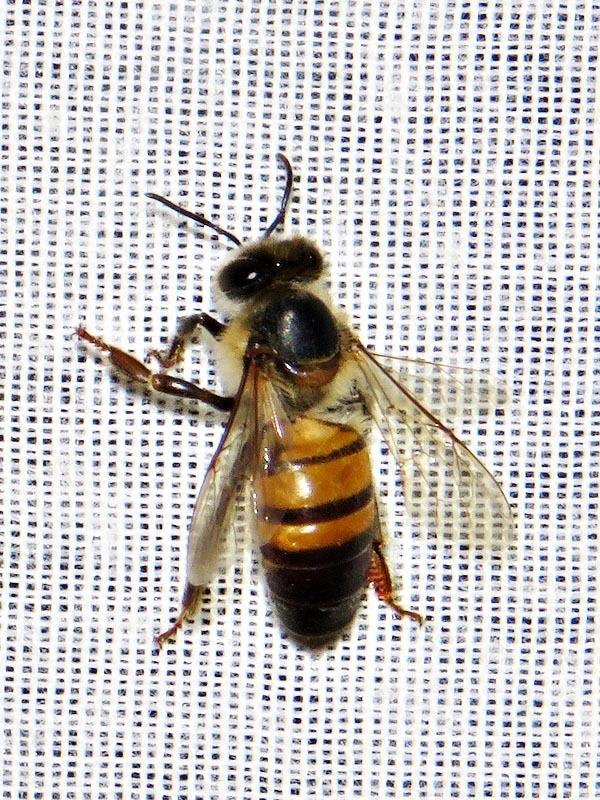not_bumblebee: (76, 150, 522, 660)
